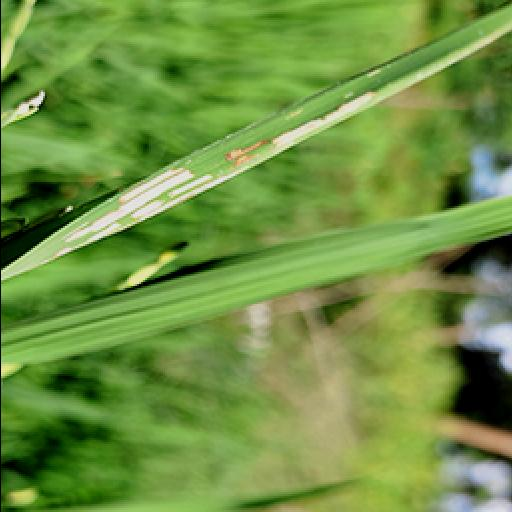Bacterial Leaf Blight: (54, 162, 216, 282), (270, 62, 392, 172)
Brown Spot: (214, 130, 262, 178)
